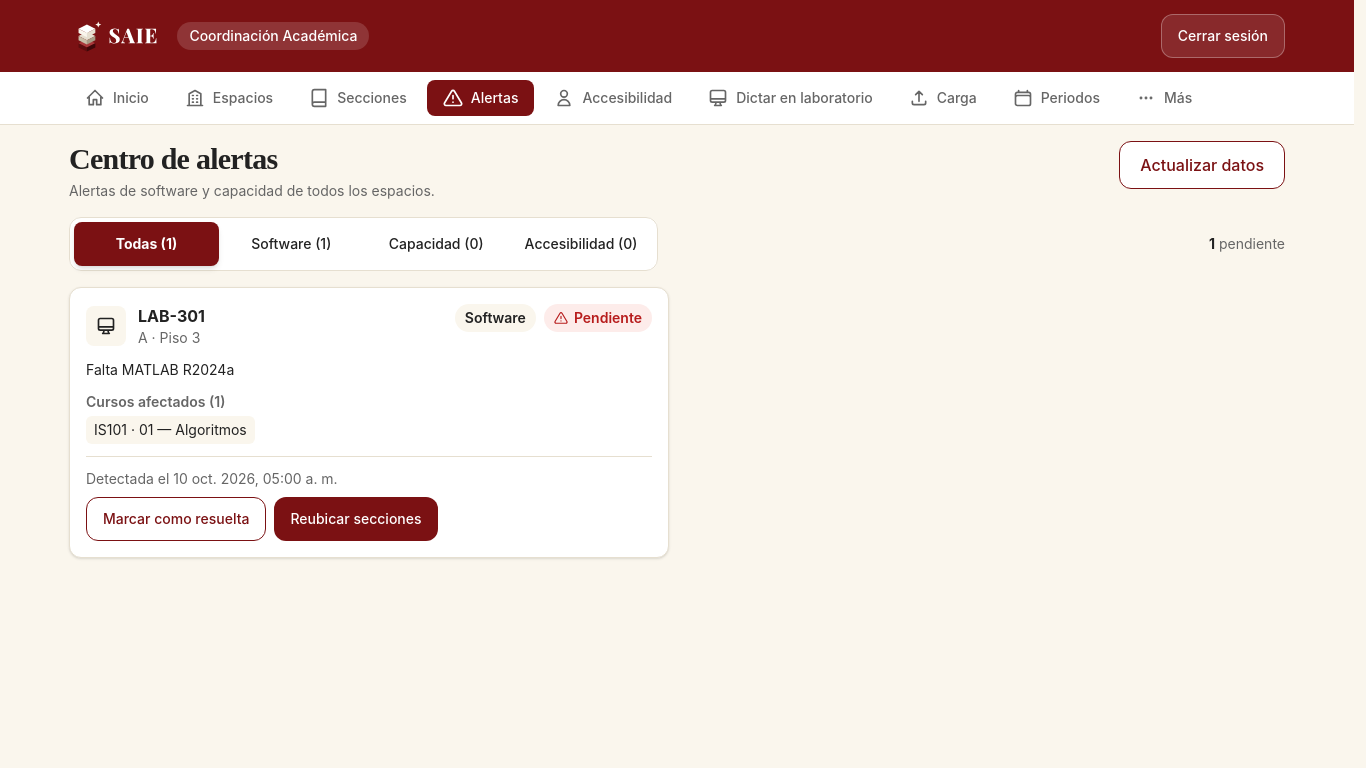
it: Lista de alertas (Issue 4.10) › reubicar secciones (Issue 2.22) › Coordinación reubica las secciones y la alerta deja la lista
Step 1. Click the button "Reubicar secciones" → [356, 519], box [274, 497, 438, 541]
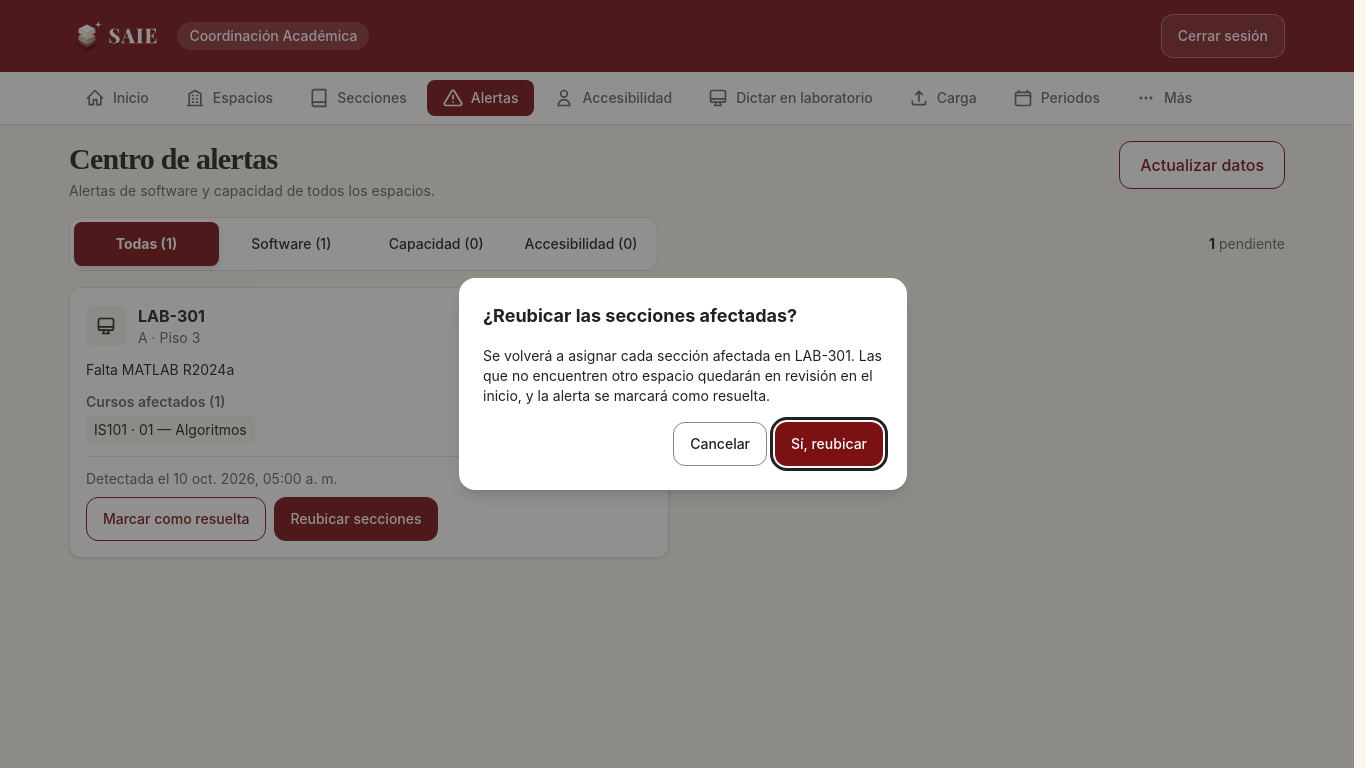
Step 2. Click the button "Sí, reubicar" → [829, 444], box [775, 422, 883, 466]
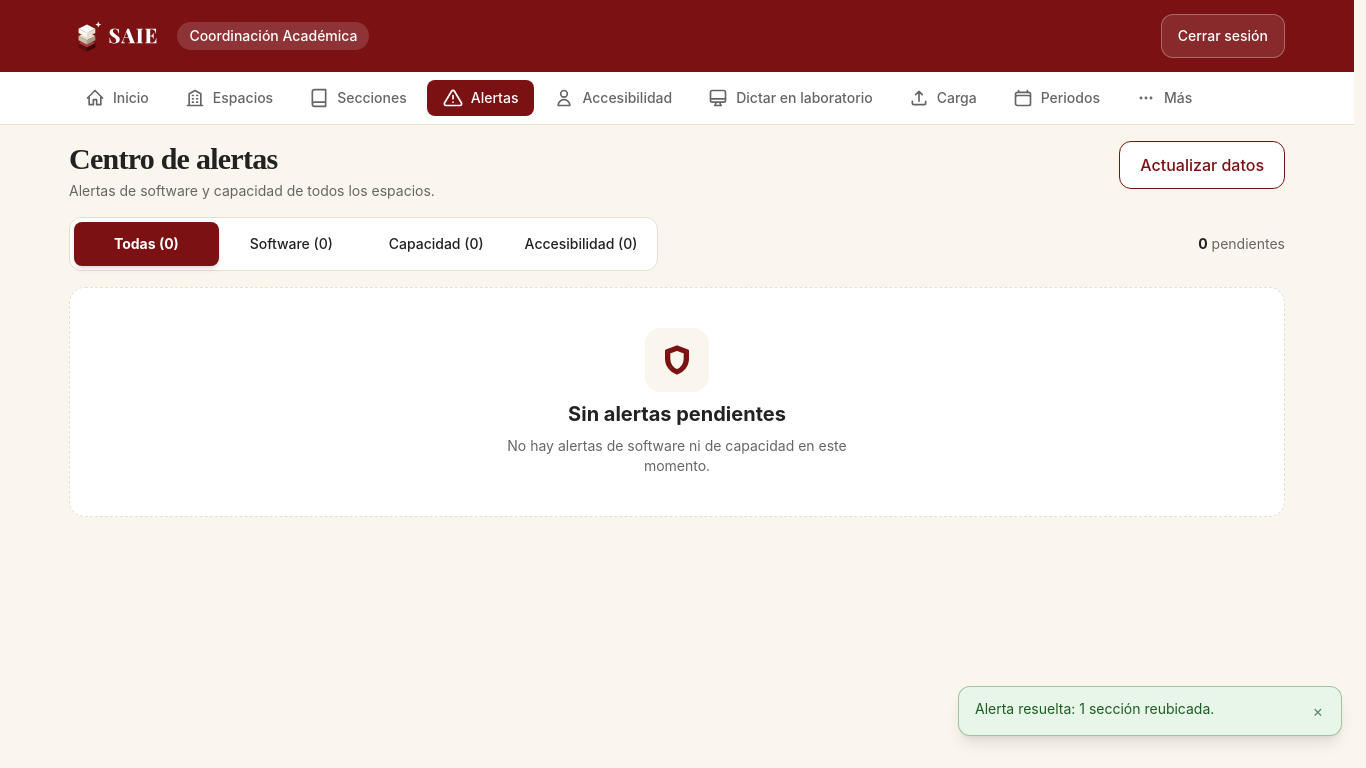
Result: the text "Alerta resuelta: 1 sección reubicada." is shown at [975, 700, 1214, 717]
